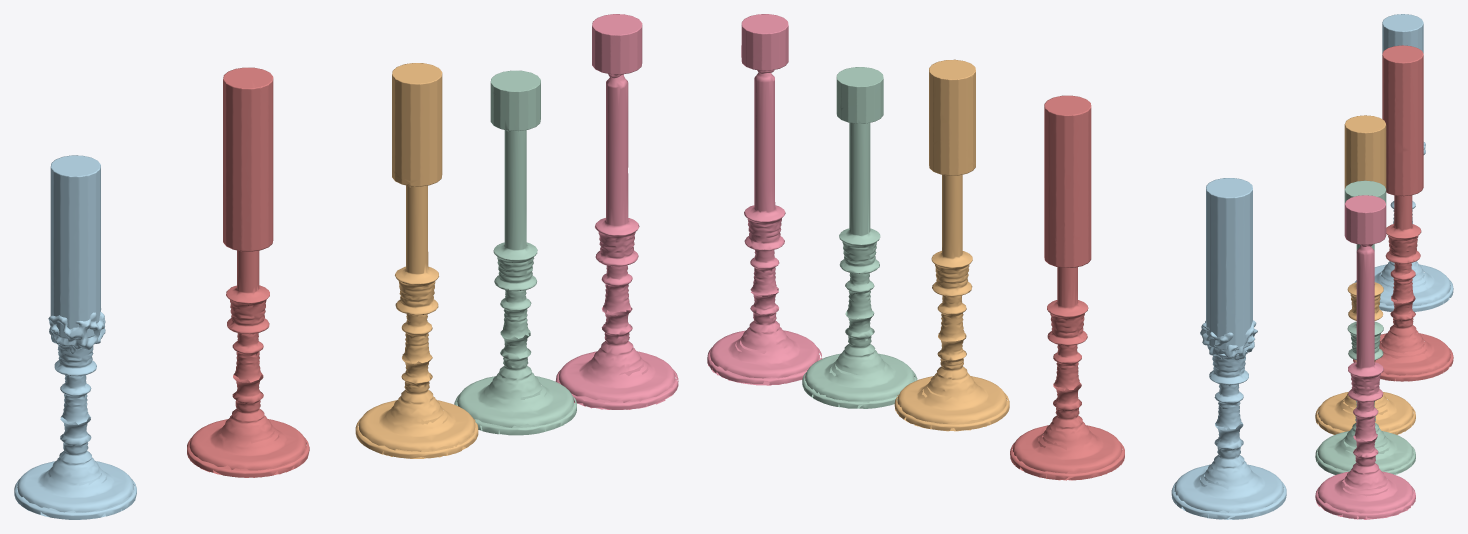
Rendered from xm-candles.glb.
The picture shows the model from 3 angles, left to right: view 1: azimuth 30°, elevation 25°; view 2: azimuth 150°, elevation 25°; view 3: azimuth 270°, elevation 25°; orthographic projection. The views are drawn at different scales.
Parts seen in each view (by area): view 1: xm-candles-26, xm-candles-21, xm-candles-16, xm-candles-11, xm-candles-9, xm-candles-5, xm-candles-3, xm-candles-14, xm-candles-19, xm-candles-24, xm-candles-4; view 2: xm-candles-26, xm-candles-21, xm-candles-16, xm-candles-11, xm-candles-5, xm-candles-9, xm-candles-3, xm-candles-14, xm-candles-19, xm-candles-24, xm-candles-4; view 3: xm-candles-26, xm-candles-11, xm-candles-9, xm-candles-21, xm-candles-16, xm-candles-14, xm-candles-5, xm-candles-24, xm-candles-3, xm-candles-19, xm-candles-6.
Part boxes in pixels (x1,y1,x2,y2): xm-candles-26: (555, 74, 678, 409); xm-candles-21: (454, 130, 576, 435); xm-candles-16: (355, 185, 478, 458); xm-candles-11: (187, 250, 309, 477); xm-candles-9: (223, 67, 273, 251); xm-candles-5: (14, 344, 136, 519); xm-candles-3: (50, 155, 100, 339); xm-candles-14: (392, 63, 442, 186); xm-candles-19: (490, 70, 540, 131); xm-candles-24: (592, 14, 642, 74); xm-candles-4: (48, 308, 105, 353); xm-candles-26: (707, 72, 822, 385); xm-candles-21: (802, 122, 917, 408); xm-candles-16: (894, 174, 1009, 431); xm-candles-11: (1010, 267, 1124, 480); xm-candles-5: (1171, 349, 1286, 519); xm-candles-9: (1044, 95, 1091, 267); xm-candles-3: (1206, 178, 1252, 350); xm-candles-14: (929, 59, 975, 175); xm-candles-19: (836, 67, 883, 123); xm-candles-24: (741, 14, 788, 70); xm-candles-4: (1200, 320, 1257, 360); xm-candles-26: (1315, 245, 1415, 519); xm-candles-11: (1353, 195, 1453, 381); xm-candles-9: (1382, 45, 1423, 196); xm-candles-21: (1315, 244, 1415, 474); xm-candles-16: (1315, 282, 1415, 434); xm-candles-14: (1344, 115, 1386, 189); xm-candles-5: (1354, 201, 1453, 311); xm-candles-24: (1344, 195, 1386, 244); xm-candles-3: (1382, 14, 1423, 53); xm-candles-19: (1344, 180, 1386, 205); xm-candles-6: (1381, 332, 1426, 358).
Bounding box in the file's own units: 1 × 0.5724 × 0.2338.
